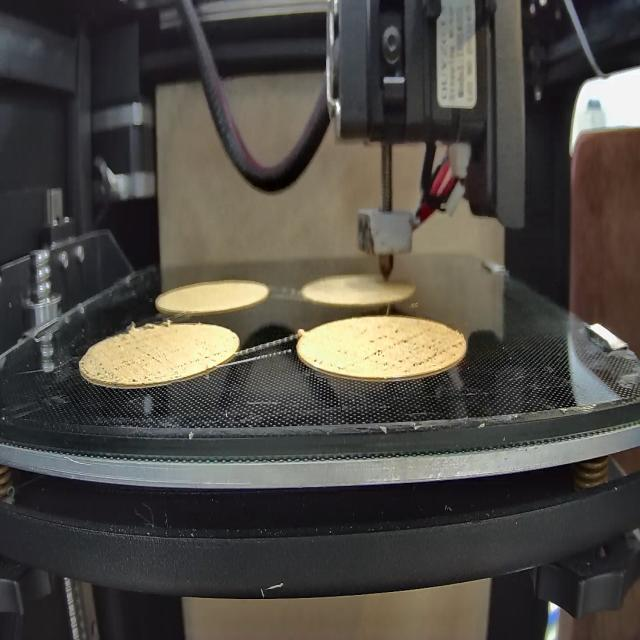under_extrusion: (366, 326, 462, 370), (97, 341, 164, 384), (309, 352, 349, 375), (188, 352, 221, 370)
